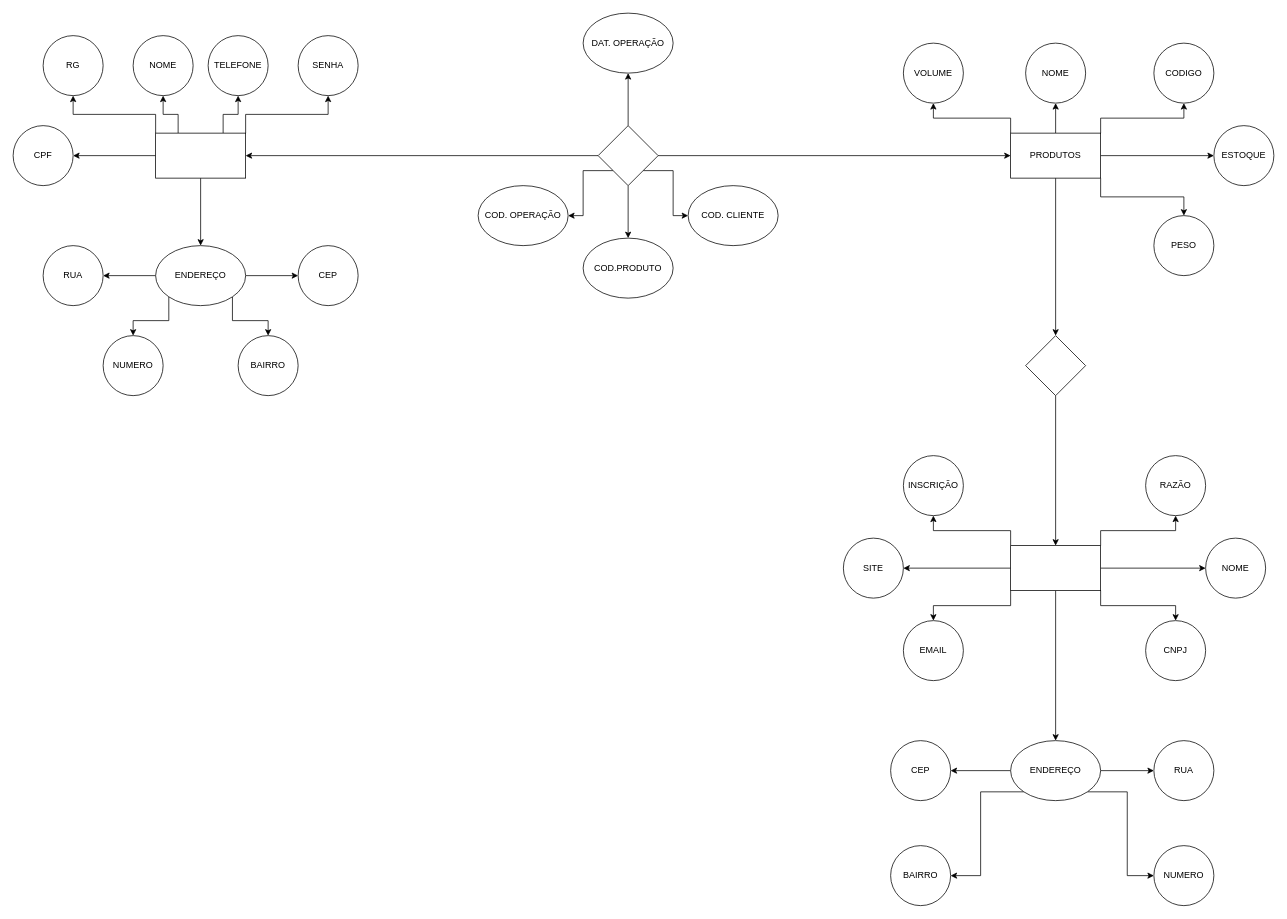
Image size: 1287x919. Some labels were removed from this diagram. The centre of each missing label's shape, as x and y in pixels:
"CLIENTE" goes at point 200,155.
"COMPRA" goes at point 627,155.
"CONTEM" goes at point 1055,365.
"FORNECEDORES" goes at point 1055,568.
